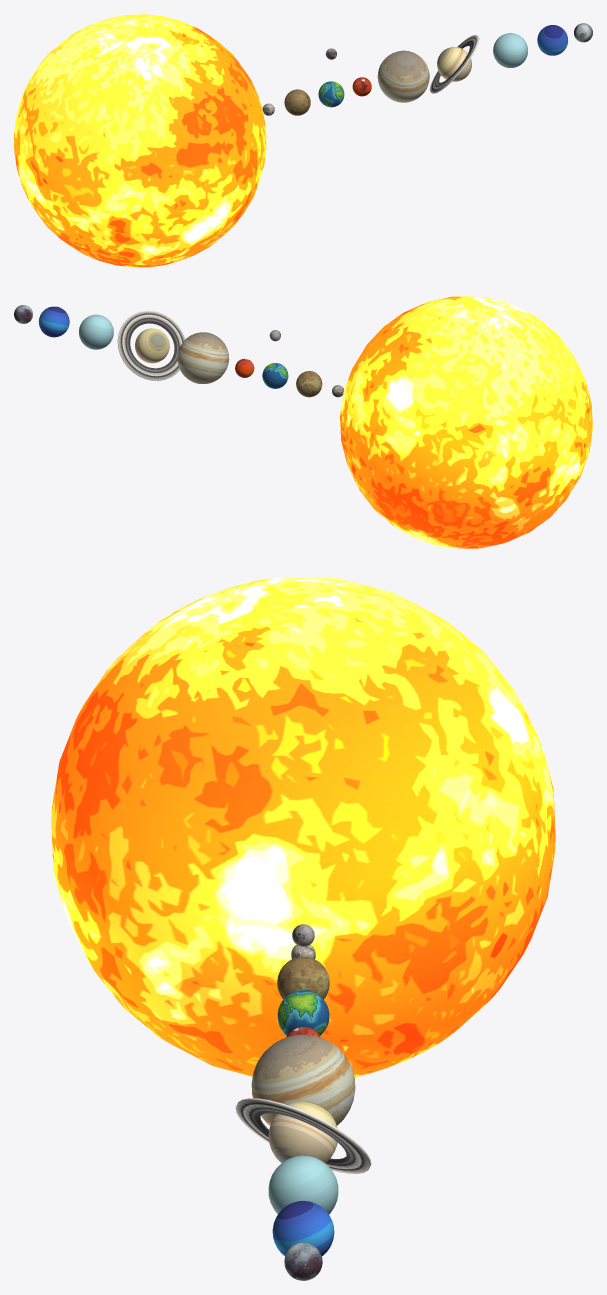
Rendered from Planets.glb.
The picture shows the model from 3 angles, top to bottom: view 1: azimuth 30°, elevation 25°; view 2: azimuth 150°, elevation 25°; view 3: azimuth 270°, elevation 25°; orthographic projection. The views are drawn at different scales.
Parts seen in each view (by area): view 1: Sun, Jupiter, Saturn, Uranus, Neptune, Venus, Earth; view 2: Sun, Saturn, Jupiter, Uranus, Neptune, Venus, Earth; view 3: Sun, Jupiter, Saturn, Uranus, Neptune, Earth, Venus, Pluto.
Boxes of the visible parts, <box> form: Sun: <box>14,14,266,267</box>; Jupiter: <box>377,50,429,102</box>; Saturn: <box>429,35,479,93</box>; Uranus: <box>493,33,527,67</box>; Neptune: <box>537,25,567,55</box>; Venus: <box>284,89,310,115</box>; Earth: <box>318,81,344,107</box>; Sun: <box>340,296,592,548</box>; Saturn: <box>117,310,185,380</box>; Jupiter: <box>177,332,229,383</box>; Uranus: <box>79,314,113,349</box>; Neptune: <box>38,306,69,337</box>; Venus: <box>296,371,322,397</box>; Earth: <box>262,363,288,388</box>; Sun: <box>51,577,555,1077</box>; Jupiter: <box>251,1034,355,1125</box>; Saturn: <box>235,1098,371,1173</box>; Uranus: <box>268,1155,338,1214</box>; Neptune: <box>272,1201,334,1256</box>; Earth: <box>277,990,329,1035</box>; Venus: <box>277,956,329,999</box>; Pluto: <box>284,1242,322,1280</box>.
Size of the model in its own units: 22.6 by 8.84 by 8.82.
Materials: 11 (11 with a texture image).
